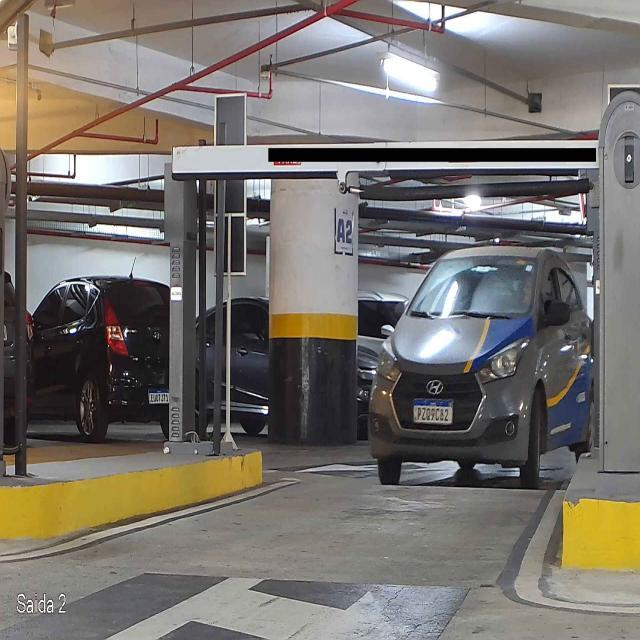mercosul_plate: (412, 398, 454, 426)
